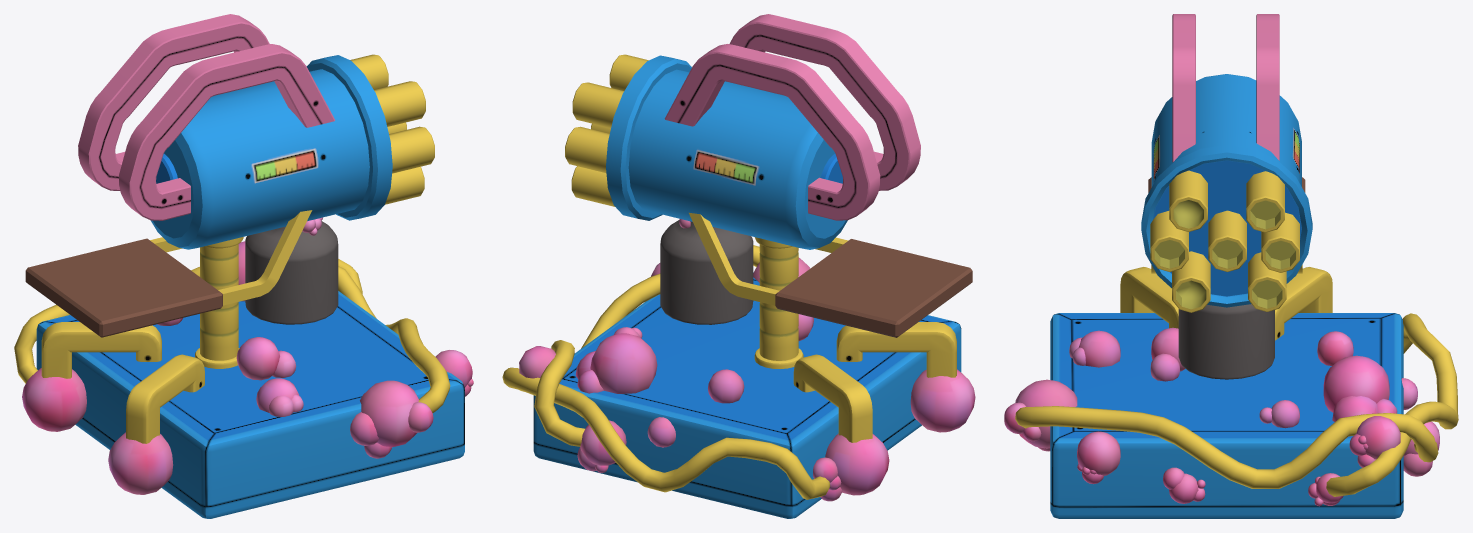
The model's file is BubblegunUG2.fbx.
The picture shows the model from 3 angles, left to right: view 1: azimuth 30°, elevation 25°; view 2: azimuth 150°, elevation 25°; view 3: azimuth 270°, elevation 25°; orthographic projection. The views are drawn at different scales.
Parts seen in each view (by area): view 1: Top_Bubblegun2, Bottom_Bubblegun2; view 2: Top_Bubblegun2, Bottom_Bubblegun2; view 3: Bottom_Bubblegun2, Top_Bubblegun2.
Boxes of the visible parts, bbox=[...] form: Top_Bubblegun2: bbox=[25, 14, 434, 368]; Bottom_Bubblegun2: bbox=[14, 241, 473, 518]; Top_Bubblegun2: bbox=[565, 14, 972, 368]; Bottom_Bubblegun2: bbox=[502, 245, 975, 518]; Bottom_Bubblegun2: bbox=[1004, 267, 1458, 518]; Top_Bubblegun2: bbox=[1141, 14, 1312, 379].
Size of the model in its own units: 79.22 by 82.53 by 83.46.
Materials: 1 (1 with a texture image).
